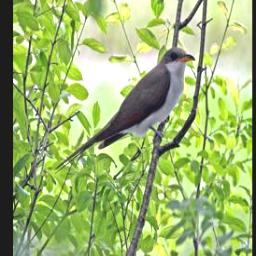Cuckoo: (57, 46, 198, 174)
